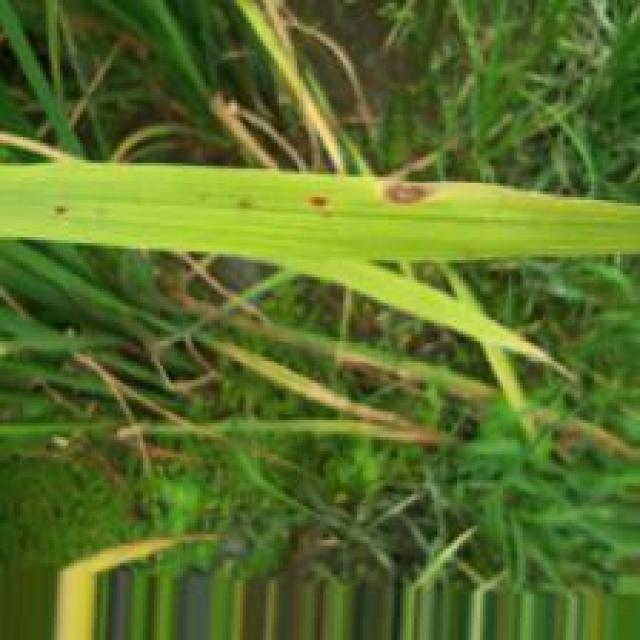Brown_Spot: (376, 180, 433, 208), (302, 195, 327, 209), (49, 203, 69, 217)
